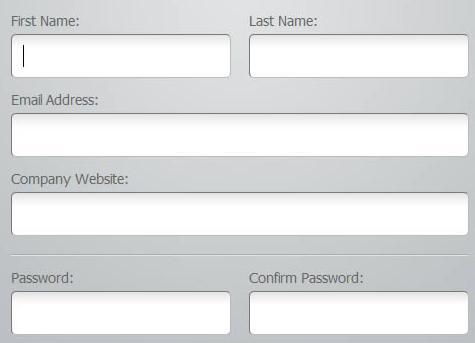field: (8, 111, 470, 158), (8, 190, 470, 236), (9, 32, 231, 79), (247, 32, 468, 79), (9, 290, 232, 336), (245, 290, 470, 334)
field_with_label: (5, 173, 473, 238), (6, 95, 472, 159), (6, 14, 233, 81), (245, 14, 471, 81), (8, 272, 236, 338), (243, 271, 471, 337)
